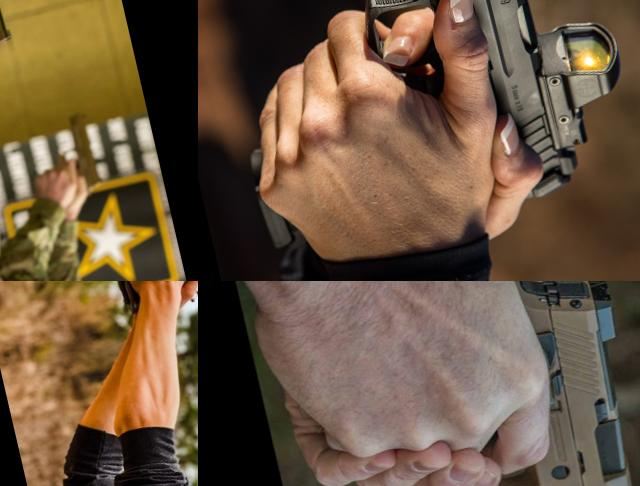handgun: (198, 0, 640, 269), (394, 281, 640, 486), (101, 281, 198, 336), (0, 0, 48, 71)
